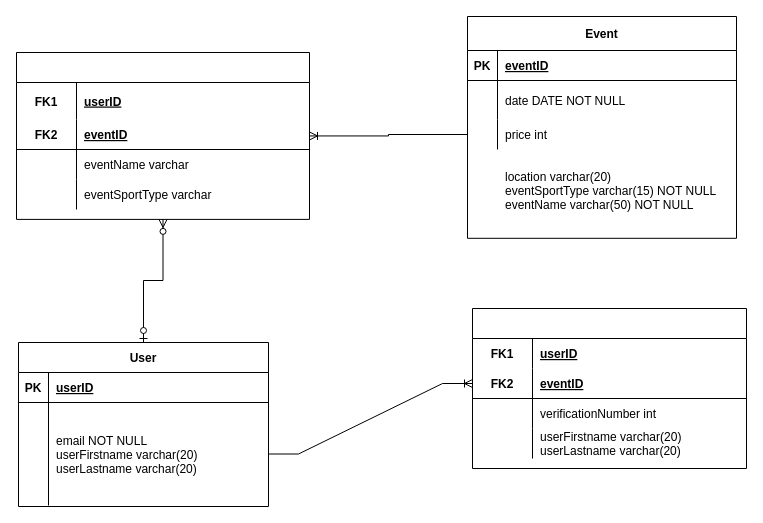
Image size: 763x523. Some labels were removed from this diagram. The box of each missing label's shape, as (x1, y1, x2, y2) in pixels:
EventDetail: (16, 52, 310, 219)
Ticket: (472, 308, 746, 468)
